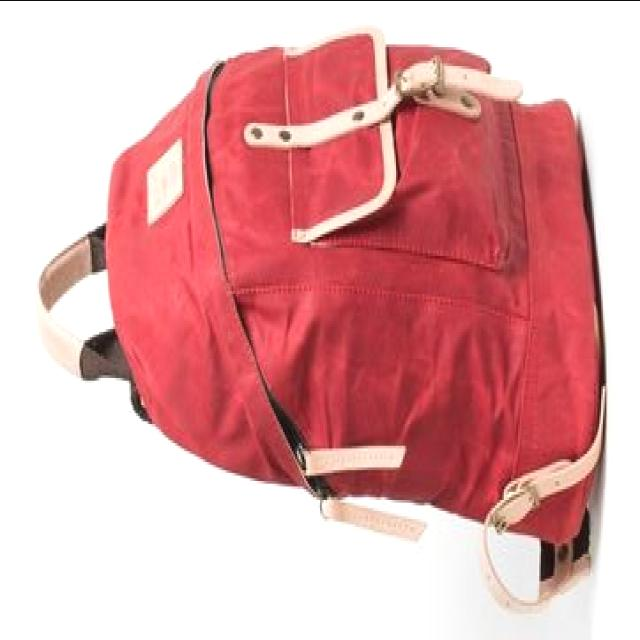backpack: (35, 28, 608, 614)
